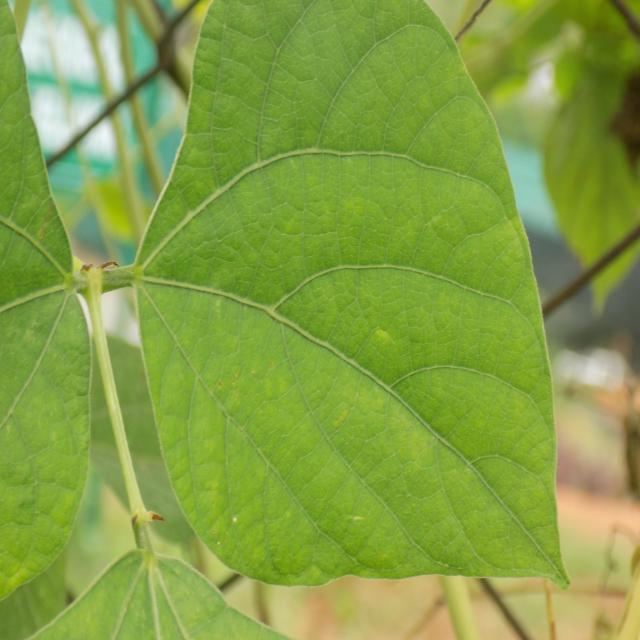Dolicos bean_healthy: (134, 0, 568, 592)
